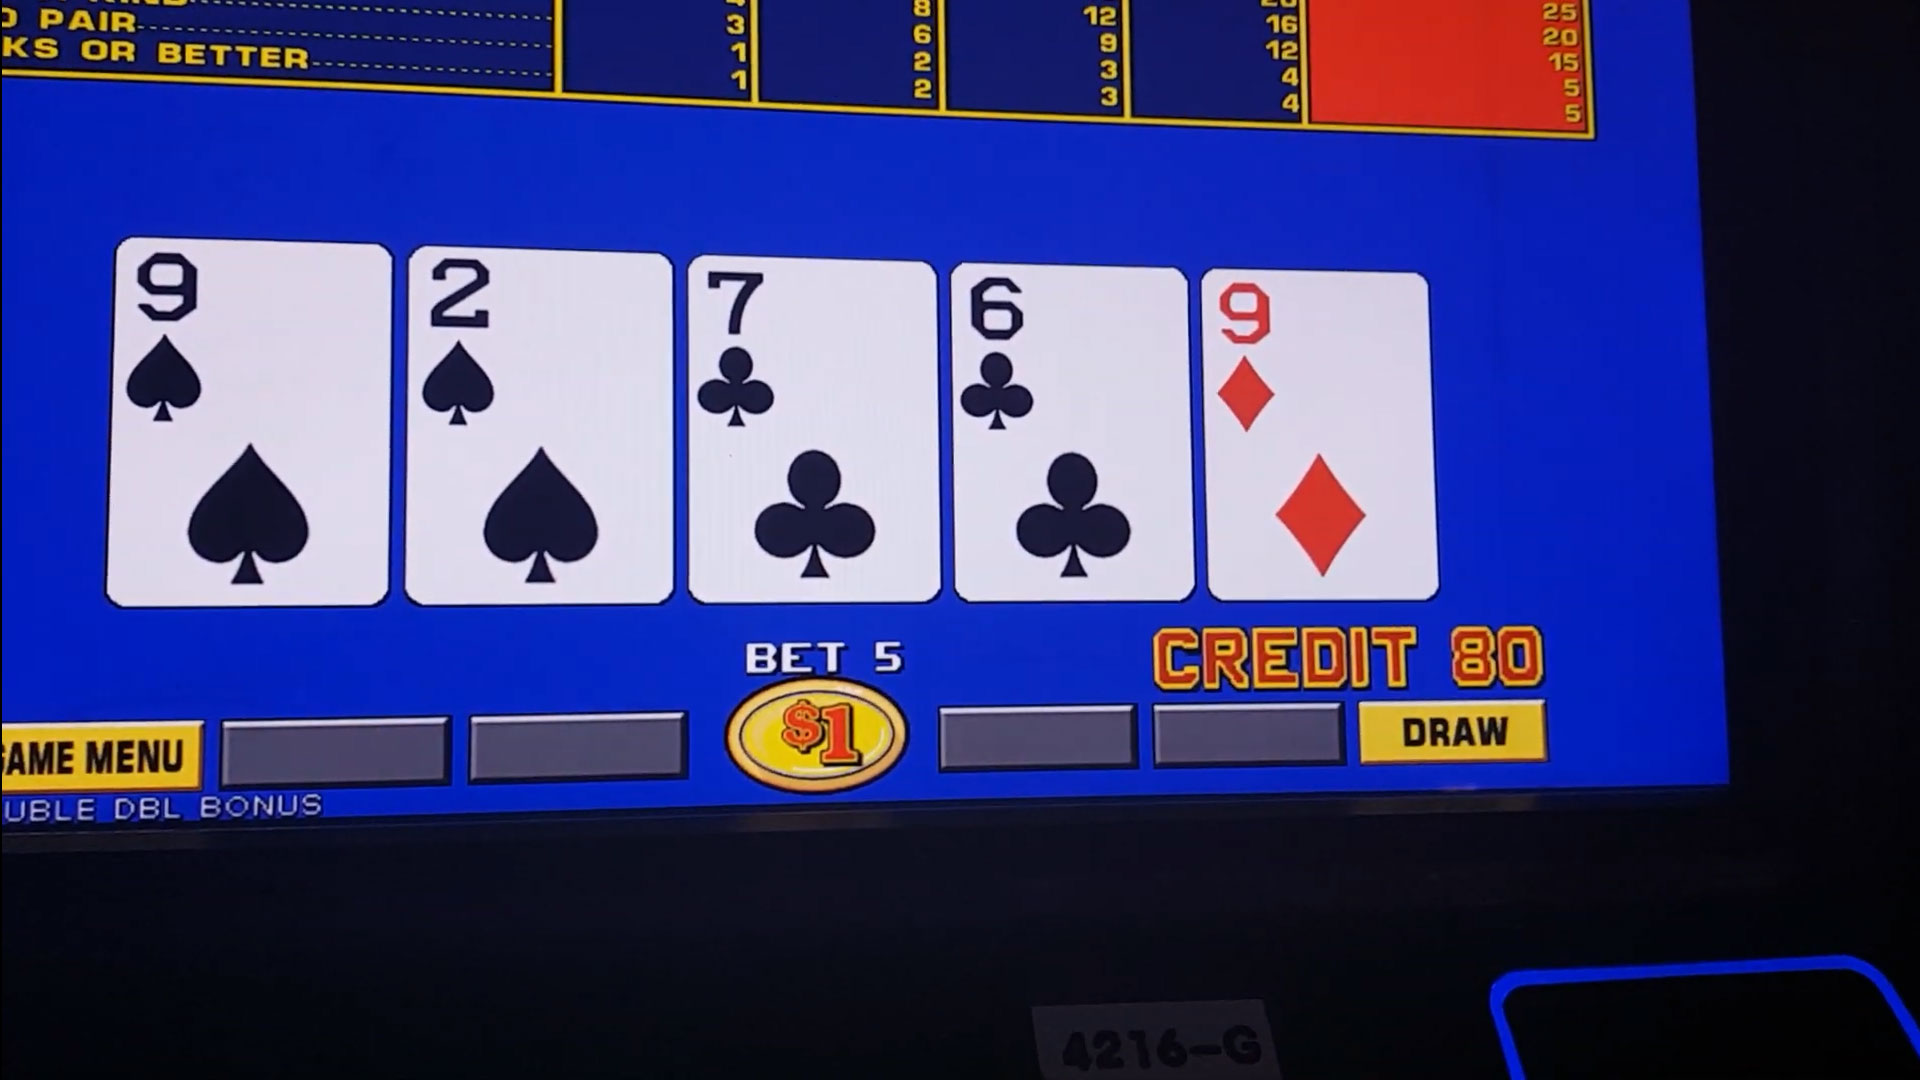C6: (955, 276, 1185, 431)
C7: (692, 268, 938, 434)
D9: (1209, 281, 1423, 435)
S2: (414, 260, 658, 434)
S9: (121, 251, 385, 431)
